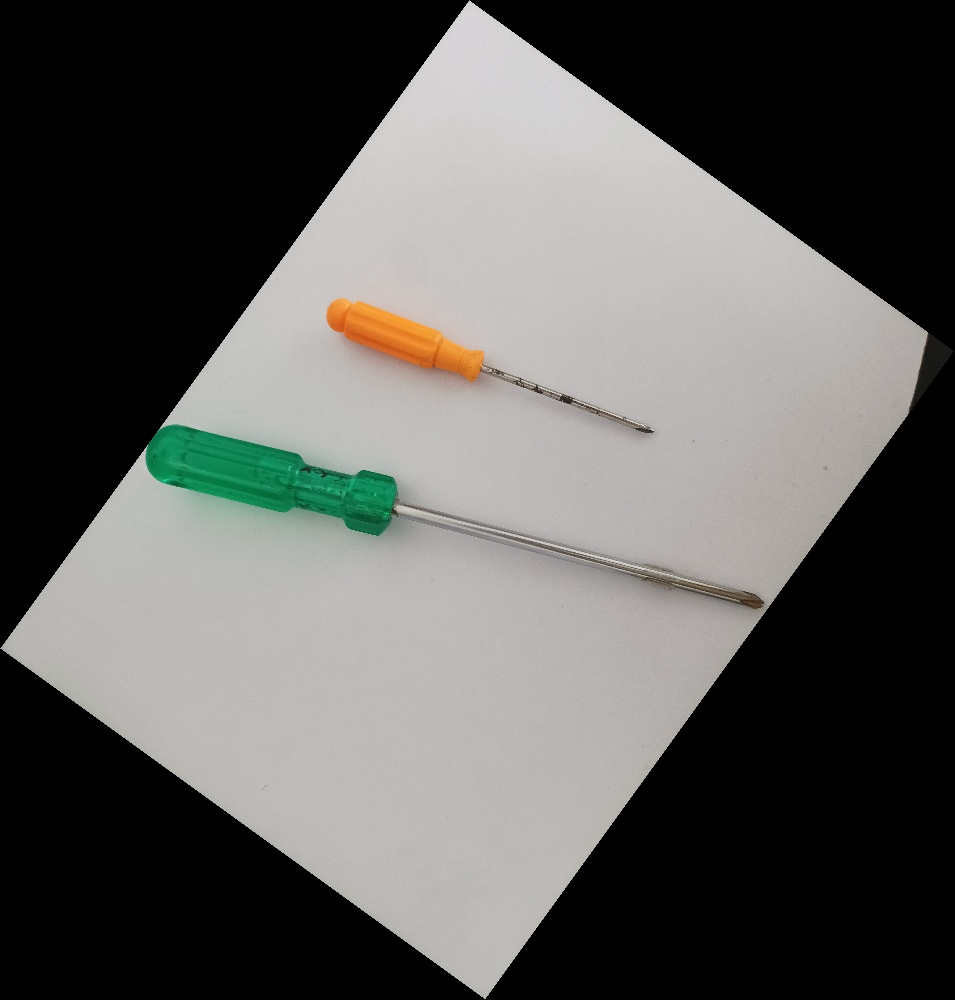screwdriver: (142, 421, 767, 617), (322, 292, 658, 438)
